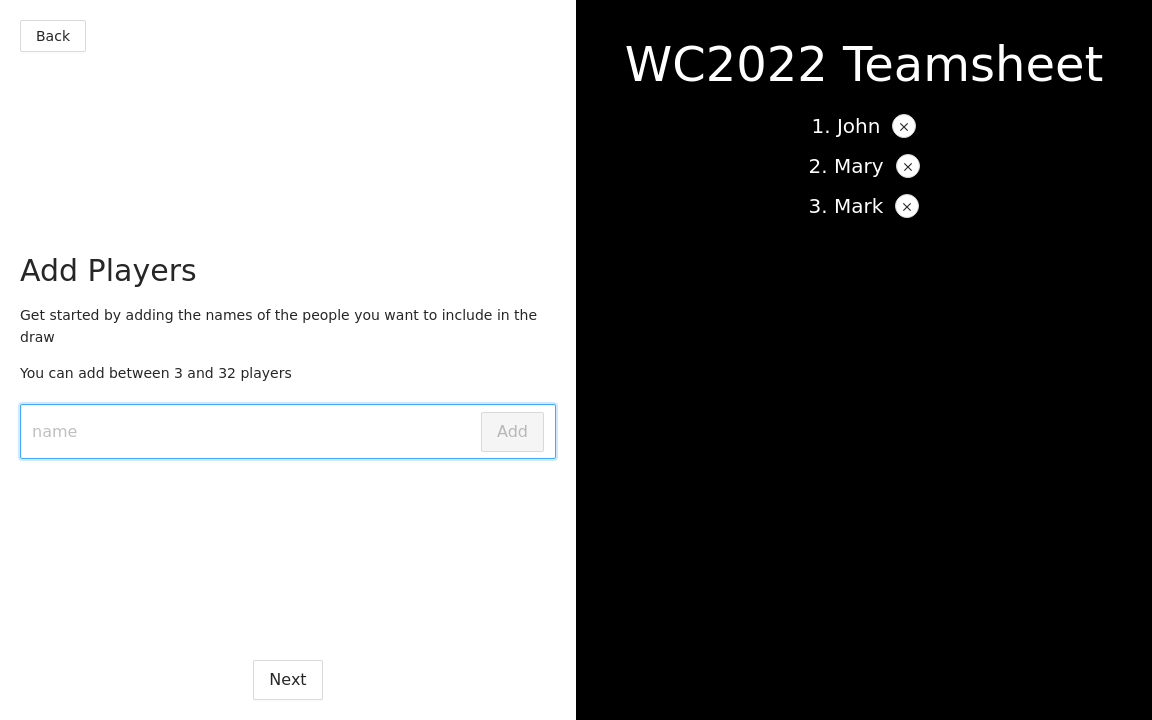
it: AddPlayerPage › should be able to remove player
Click the button with test id "removePlayerBtn_1" at (908, 166), box [896,154,920,178]
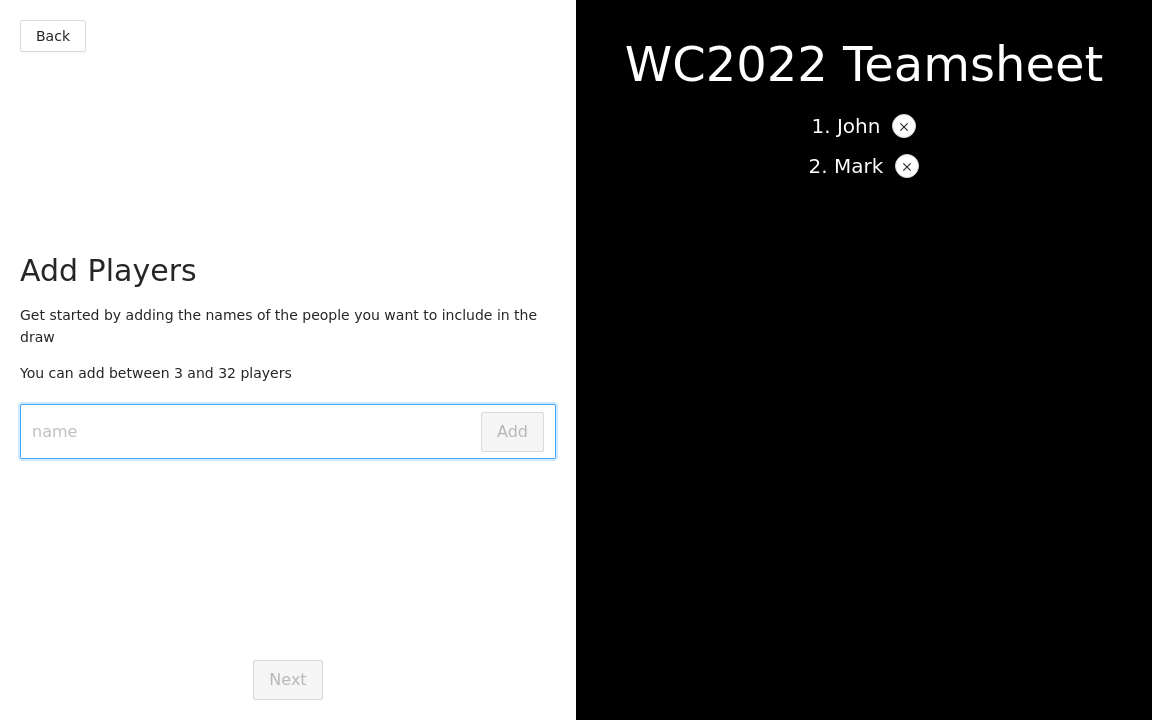
Result: the element with test id "playerList" reads "1. John 2. Mark" at [809,114,919,178]
